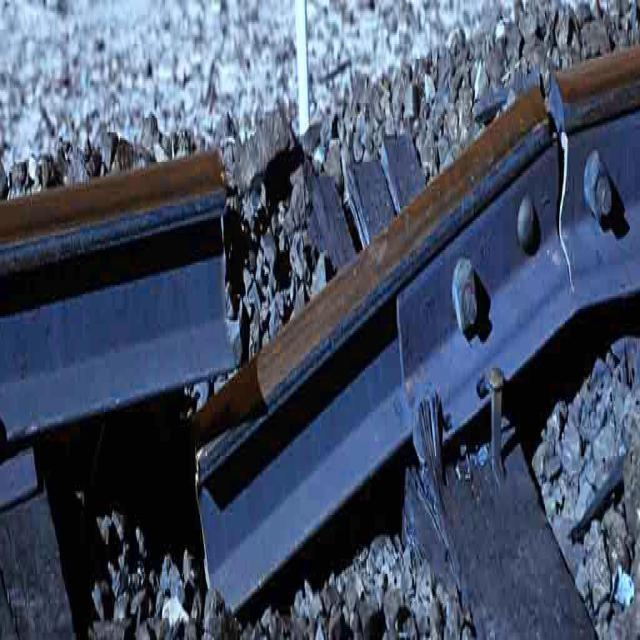broken_rail_high: (180, 160, 243, 595), (530, 35, 586, 301)
